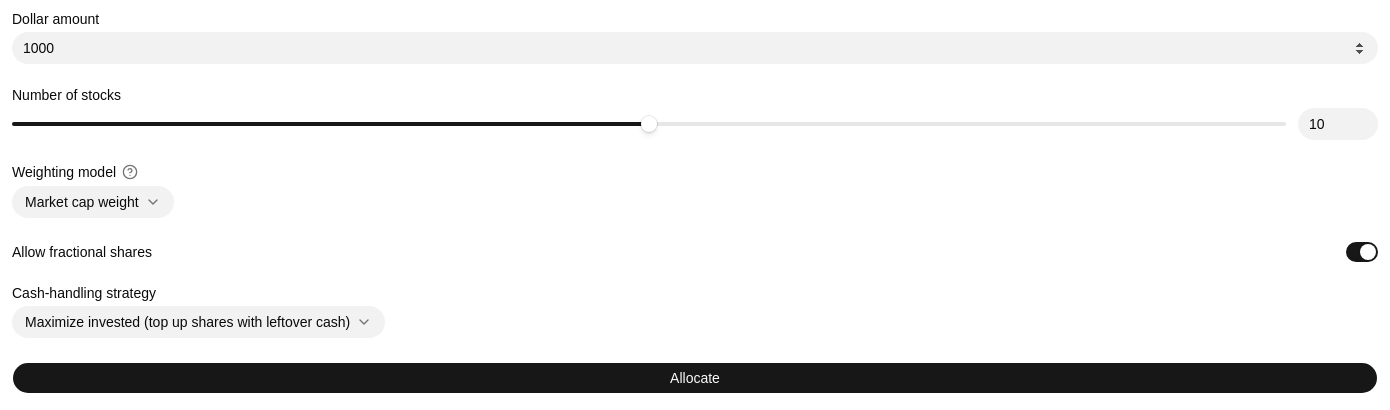
Test: AllocationControls - model-selector help tooltip › describes the currently selected model on hover
Step 1. Hover over the button named "what does this model mean" → (130, 172), box x1=122 y1=164 x2=138 y2=180
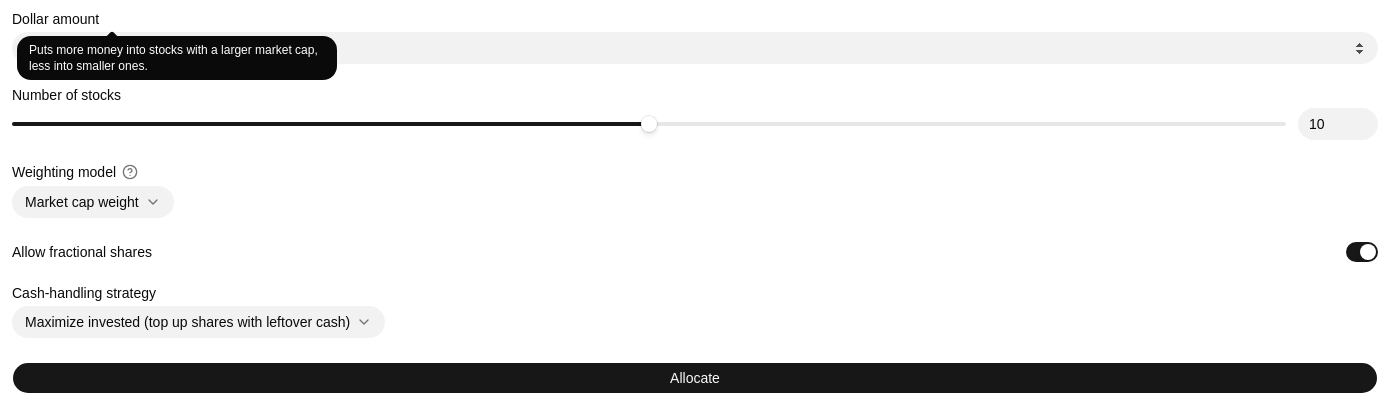
Check: the tooltip shows "market cap", box x1=29 y1=43 x2=318 y2=73
